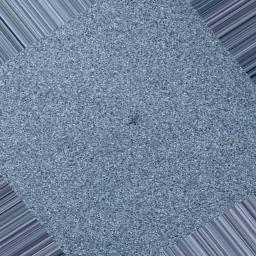Airplane: (122, 113, 144, 127)
